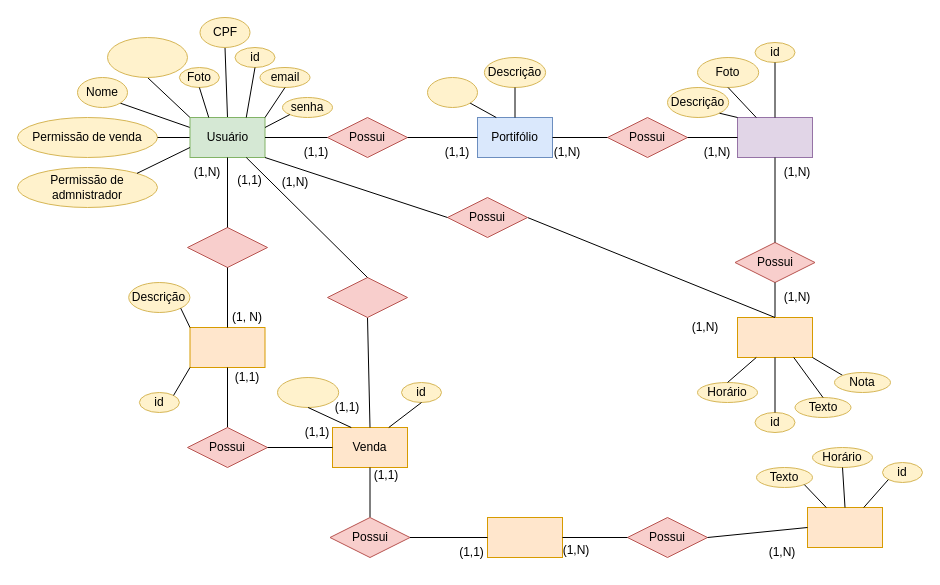
Some shapes in this 940 by 585 pixel diagram are drawn without their labels. Here are the shapes that lost their labels. From the top down, the box of each, then its label:
(106, 36, 188, 78): Sobrenome
(426, 76, 478, 108): Fotos
(736, 116, 812, 158): Anúncio
(186, 226, 268, 268): Faz
(326, 276, 408, 318): Realiza
(189, 326, 265, 368): Serviço
(736, 316, 812, 358): Comentario
(276, 376, 339, 408): Preço
(486, 516, 562, 558): Chat
(806, 506, 882, 548): Mensagem
